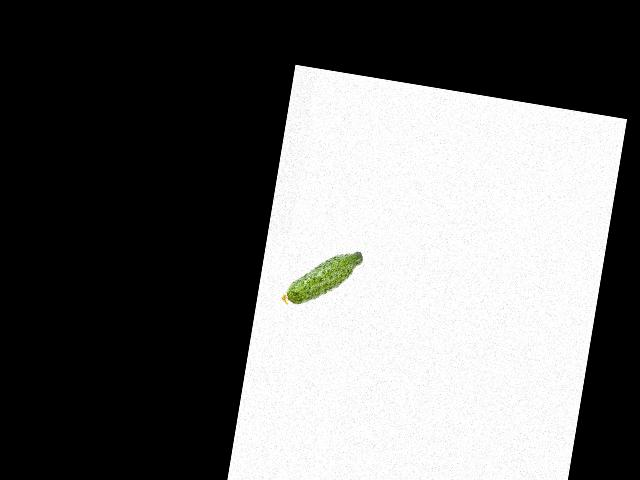cucumber: (280, 239, 363, 315)
